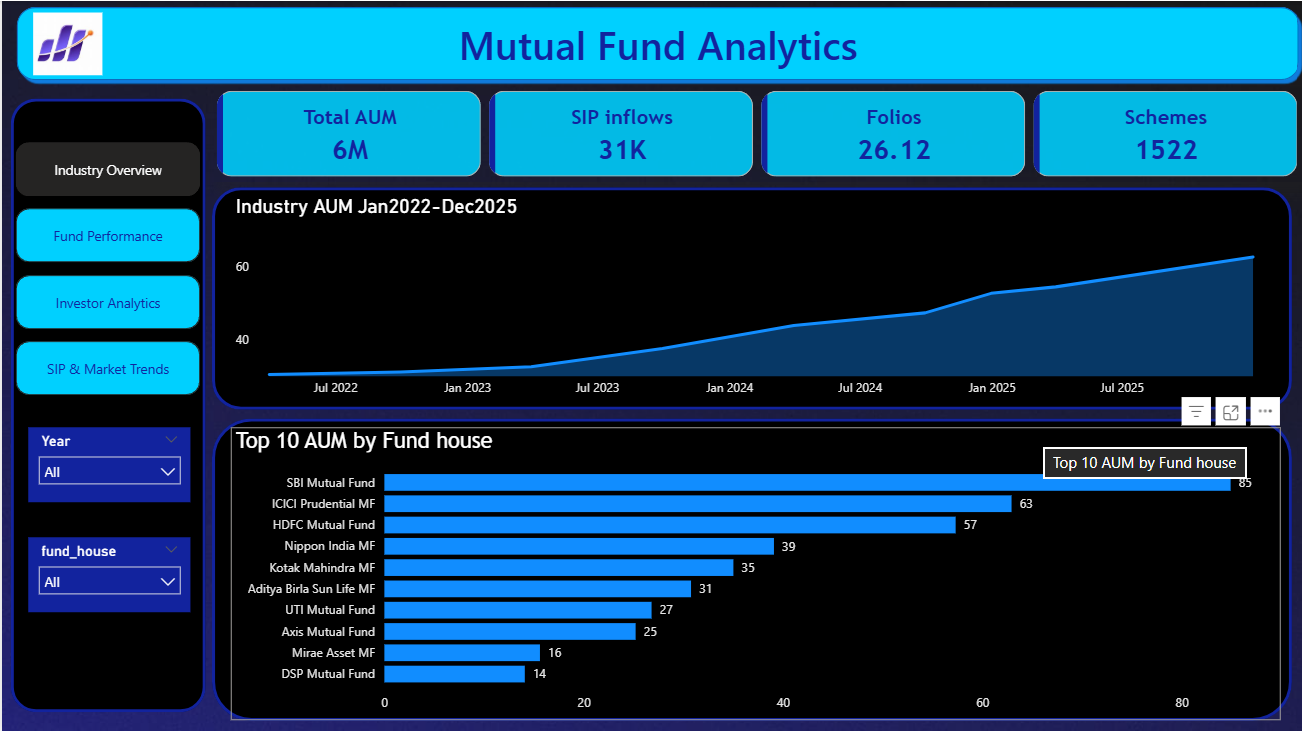

The dashboard page shown, as its layout file describes it:
{"tool":"powerbi","page":{"name":"Industry Overview","canvas":[1280,720],"ordinal":0},"visuals":[{"type":"shape","box":[8.7,0,1271.1,83.7],"z":0},{"type":"cardVisual","fields":{"Data":["03_aum_by_fund_house.Total AUM","04_monthly_sip_inflows.SIP inflows","06_industry_folio_count.Folios","03_aum_by_fund_house.Schemes"]},"box":[206.1,83.4,1073.6,94.5],"z":1000},{"type":"shape","box":[206.1,182.8,1060.1,218.4],"z":2000},{"type":"shape","box":[206.1,409.8,1060.1,296.9],"z":3000},{"type":"areaChart","title":"Industry AUM Jan2022-Dec2025","fields":{"Category":["03_aum_by_fund_house.date.Variation.Date Hierarchy.Year","03_aum_by_fund_house.date.Variation.Date Hierarchy.Quarter","03_aum_by_fund_house.date.Variation.Date Hierarchy.Month","03_aum_by_fund_house.date.Variation.Date Hierarchy.Day"],"Y":["03_aum_by_fund_house.Industry AUM"]},"box":[224.5,190.2,1030.7,207.4],"z":4000},{"type":"clusteredBarChart","title":"Top 10 AUM by Fund house","fields":{"Category":["03_aum_by_fund_house.fund_house"],"Y":["Sum(03_aum_by_fund_house.aum_lakh_crore)"]},"box":[224.5,418.4,1030.7,288.3],"z":5000},{"type":"shape","box":[8.6,95.7,191.4,602.5],"z":6000},{"type":"pageNavigator","box":[13.5,138.7,181.6,250.3],"z":7000},{"type":"image","box":[26,4.3,77.9,75],"z":8000},{"type":"slicer","fields":{"Values":["03_aum_by_fund_house.date.Variation.Date Hierarchy.Year"]},"box":[25.8,418.4,159.5,73.6],"z":8001},{"type":"slicer","fields":{"Values":["03_aum_by_fund_house.fund_house"]},"box":[25.8,526.4,159.5,73.6],"z":8002}]}

Visuals, with their boxes in screenshot pixels (x1, y1, x2, y2), scaled from the page's 1280x720 canvas onto the 1302x731 screenshot:
shape: [9, 0, 1301, 85]
cardVisual - 03_aum_by_fund_house.Total AUM x 04_monthly_sip_inflows.SIP inflows: [210, 85, 1301, 181]
shape: [210, 186, 1288, 407]
shape: [210, 416, 1288, 717]
"Industry AUM Jan2022-Dec2025" areaChart: [228, 193, 1277, 404]
"Top 10 AUM by Fund house" clusteredBarChart: [228, 425, 1277, 717]
shape: [9, 97, 203, 709]
pageNavigator: [14, 141, 198, 395]
image: [26, 4, 106, 81]
slicer - 03_aum_by_fund_house.date.Variation.Date Hierarchy.Year: [26, 425, 188, 500]
slicer - 03_aum_by_fund_house.fund_house: [26, 534, 188, 609]
